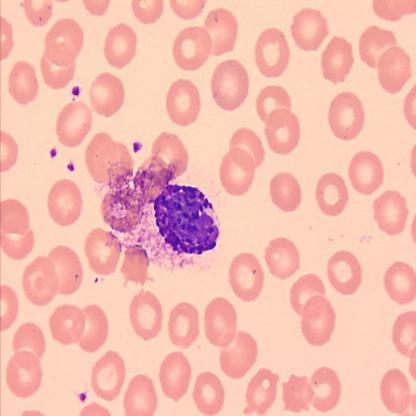Basophil: (151, 183, 222, 257)
